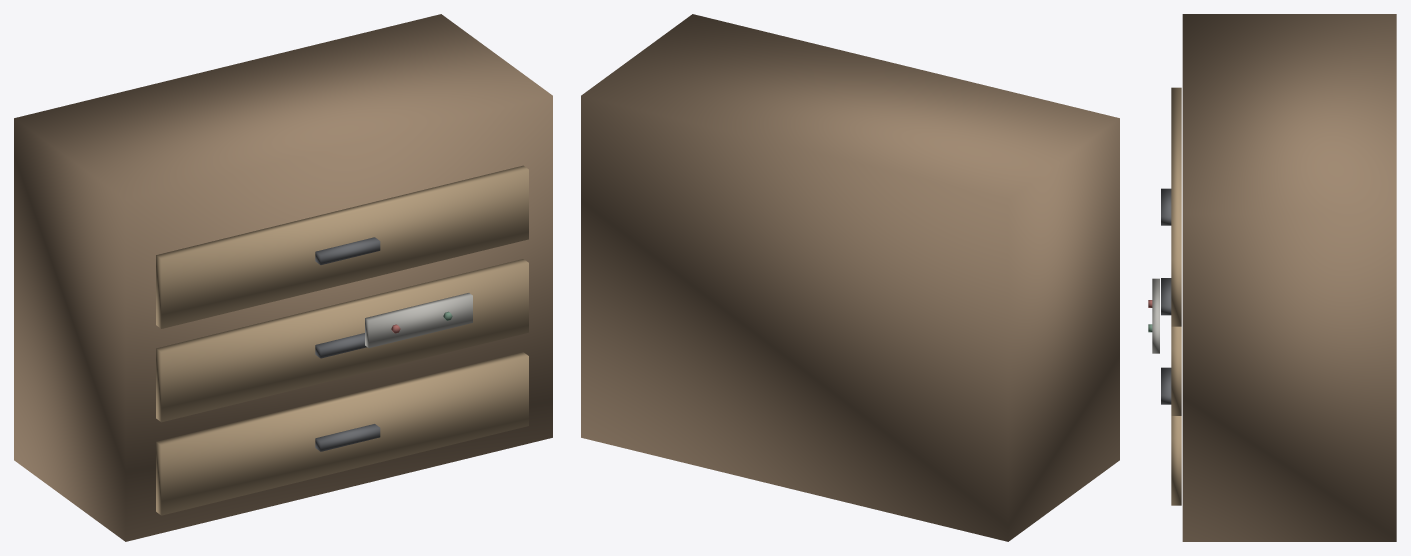
Rendered from dresser.glb.
3 views of the same model, side by side, from view 1: azimuth 30°, elevation 25°; view 2: azimuth 150°, elevation 25°; view 3: azimuth 270°, elevation 25° (orthographic). The views are drawn at different scales.
Visible parts, largest first — view 1: world; view 2: world; view 3: world.
Boxes of the visible parts, x1,y1,x2,y2 form: world: (14, 14, 552, 541); world: (581, 14, 1119, 541); world: (1148, 14, 1396, 541).
Size of the model in its own units: 1.15 by 0.88 by 0.6035.
